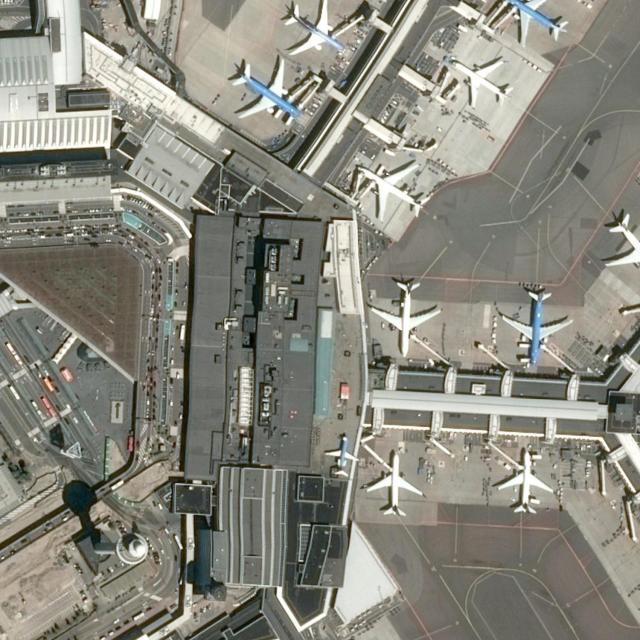Aircraft: (366, 279, 446, 356), (497, 286, 574, 365), (230, 57, 302, 119), (355, 162, 429, 220), (494, 447, 553, 515), (365, 450, 423, 516), (280, 0, 346, 54), (446, 58, 516, 107), (500, 0, 570, 45), (599, 212, 639, 282), (323, 435, 359, 477)
